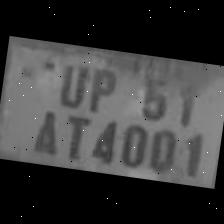0: (142, 120, 181, 174), (113, 115, 151, 169)
1: (170, 66, 210, 125), (176, 125, 211, 178)
4: (85, 110, 122, 166)
5: (130, 64, 172, 118)
A: (27, 103, 64, 155)
P: (83, 61, 120, 114)
T: (56, 108, 93, 160)
U: (54, 56, 90, 108)
